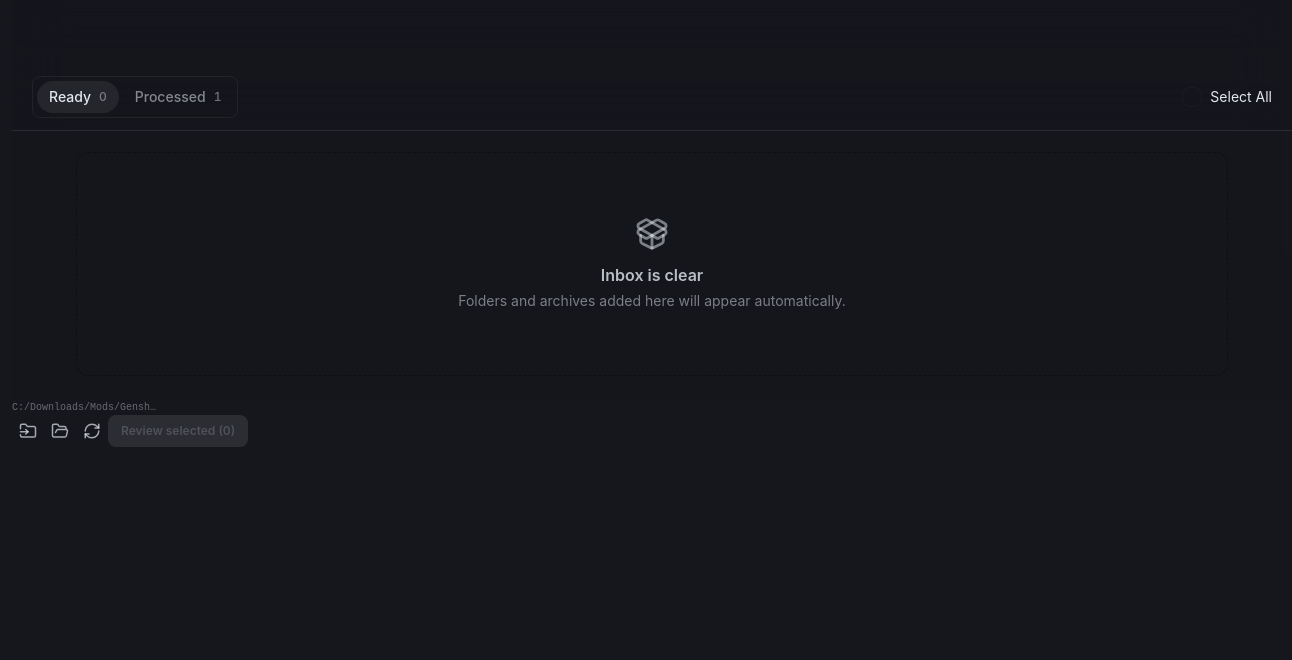
it: ModInboxPage › shows the first 20 processed destinations until the user expands the source
The image size is (1292, 660).
What coordinates should you click on to do the following:
click the tab "Processed 1"
I would click on:
 (178, 97)
Its box is x1=123 y1=81 x2=233 y2=113.
(page scrolled)
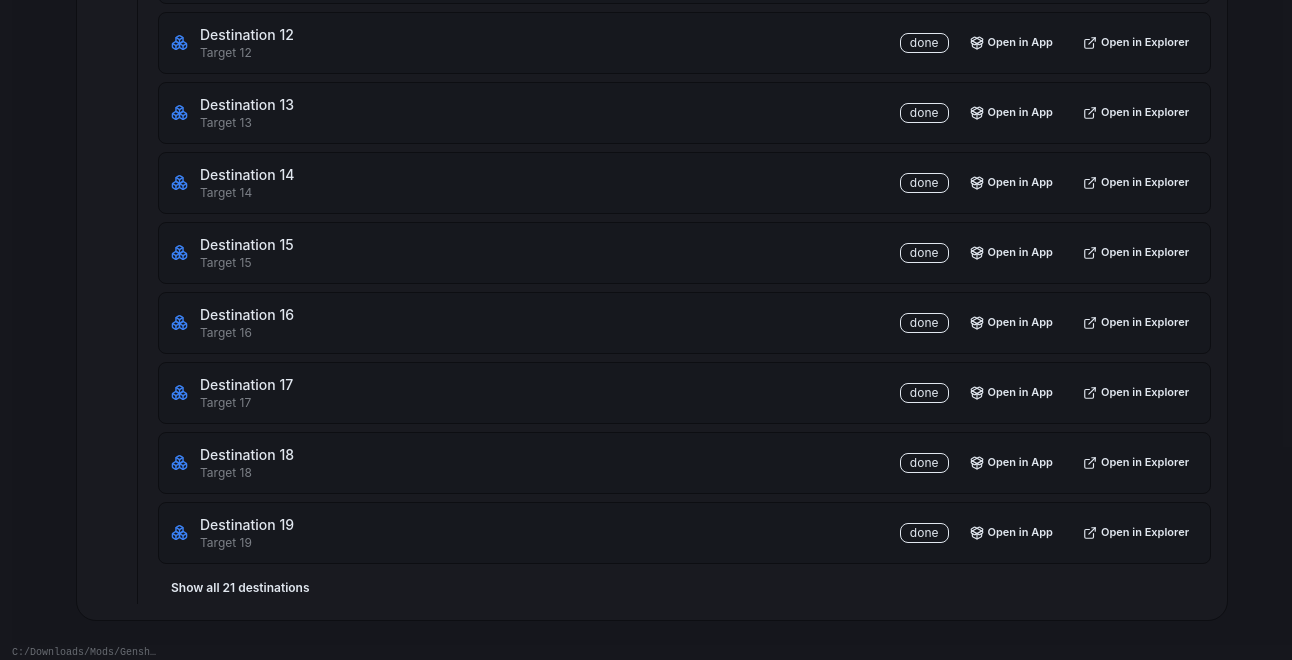
Expected: the text "Destination 20" is not shown
Expected: the text "Destination 19" is shown, x1=200 y1=516 x2=294 y2=532
What coordinates should you click on to do the following:
click the button "Show all 21 destinations"
I would click on:
 (240, 588)
Its box is x1=158 y1=572 x2=322 y2=604.
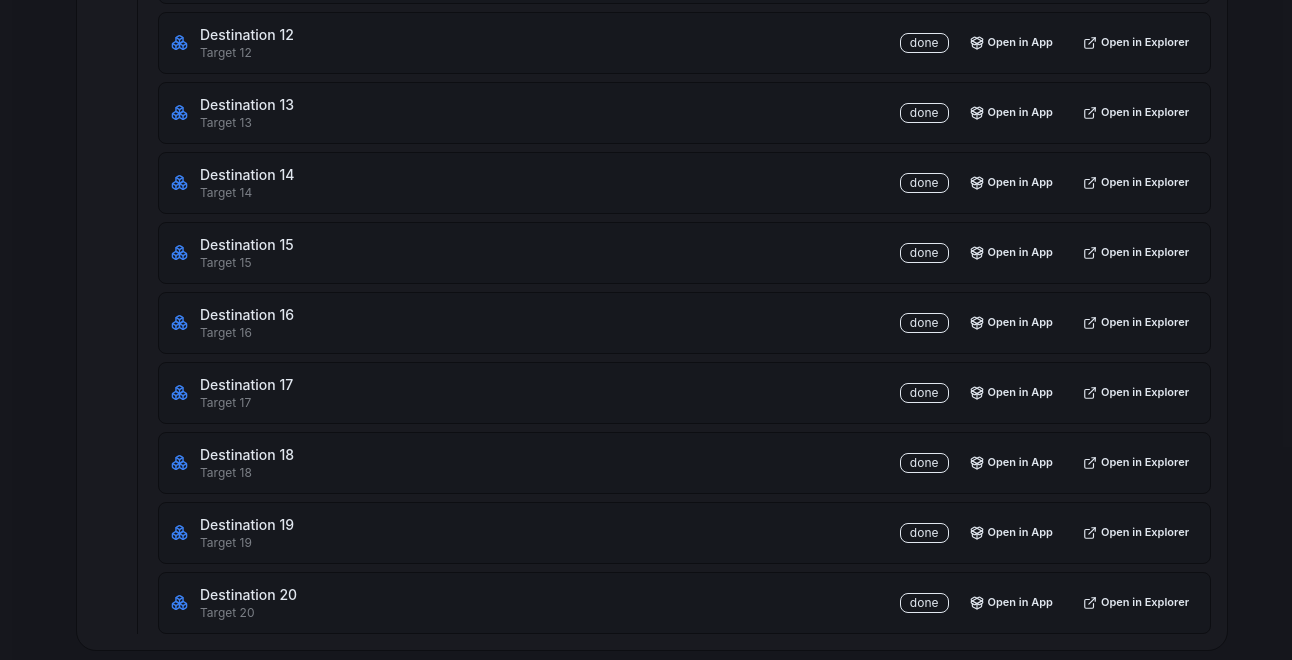
Expected: the text "Destination 20" is shown, x1=200 y1=586 x2=297 y2=602
